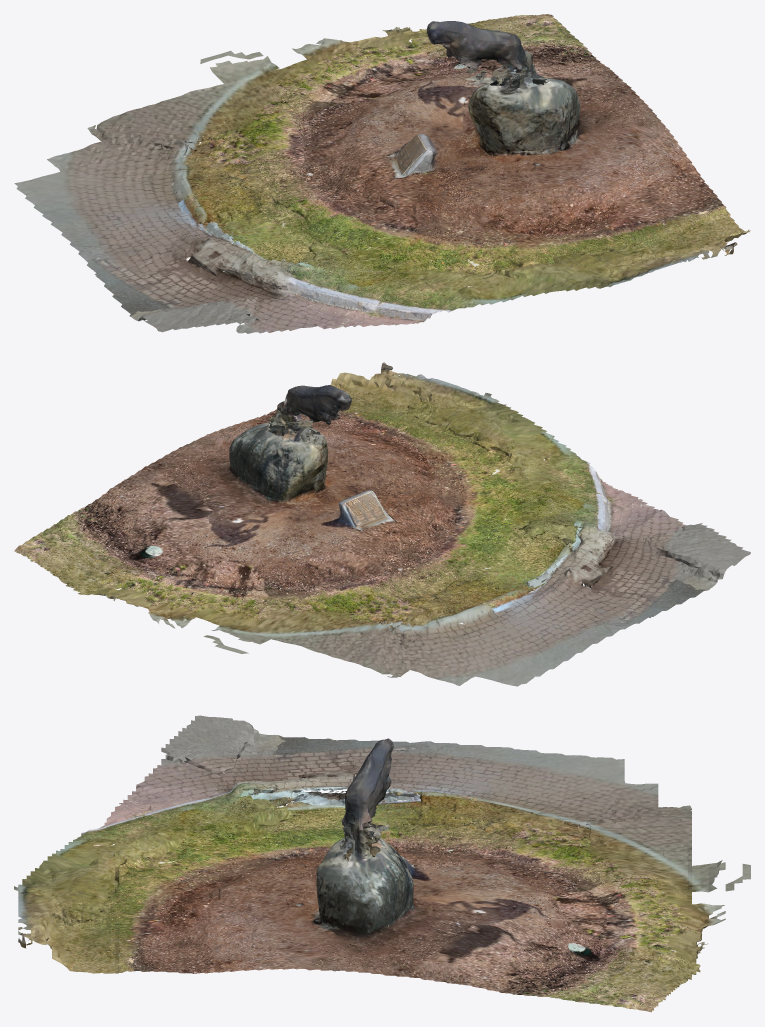
3 views of the same model, one above another, from view 1: azimuth 30°, elevation 25°; view 2: azimuth 150°, elevation 25°; view 3: azimuth 270°, elevation 25° (orthographic). The views are drawn at different scales.
Parts seen in each view (by area): view 1: mesh; view 2: mesh; view 3: mesh.
Part boxes in pixels (x1,y1,x2,y2): mesh: (14, 14, 750, 333); mesh: (14, 362, 750, 686); mesh: (14, 715, 750, 1012).
Bounding box in the file's own units: 8.73 × 2.45 × 8.75.
1 material, 1 textured.
